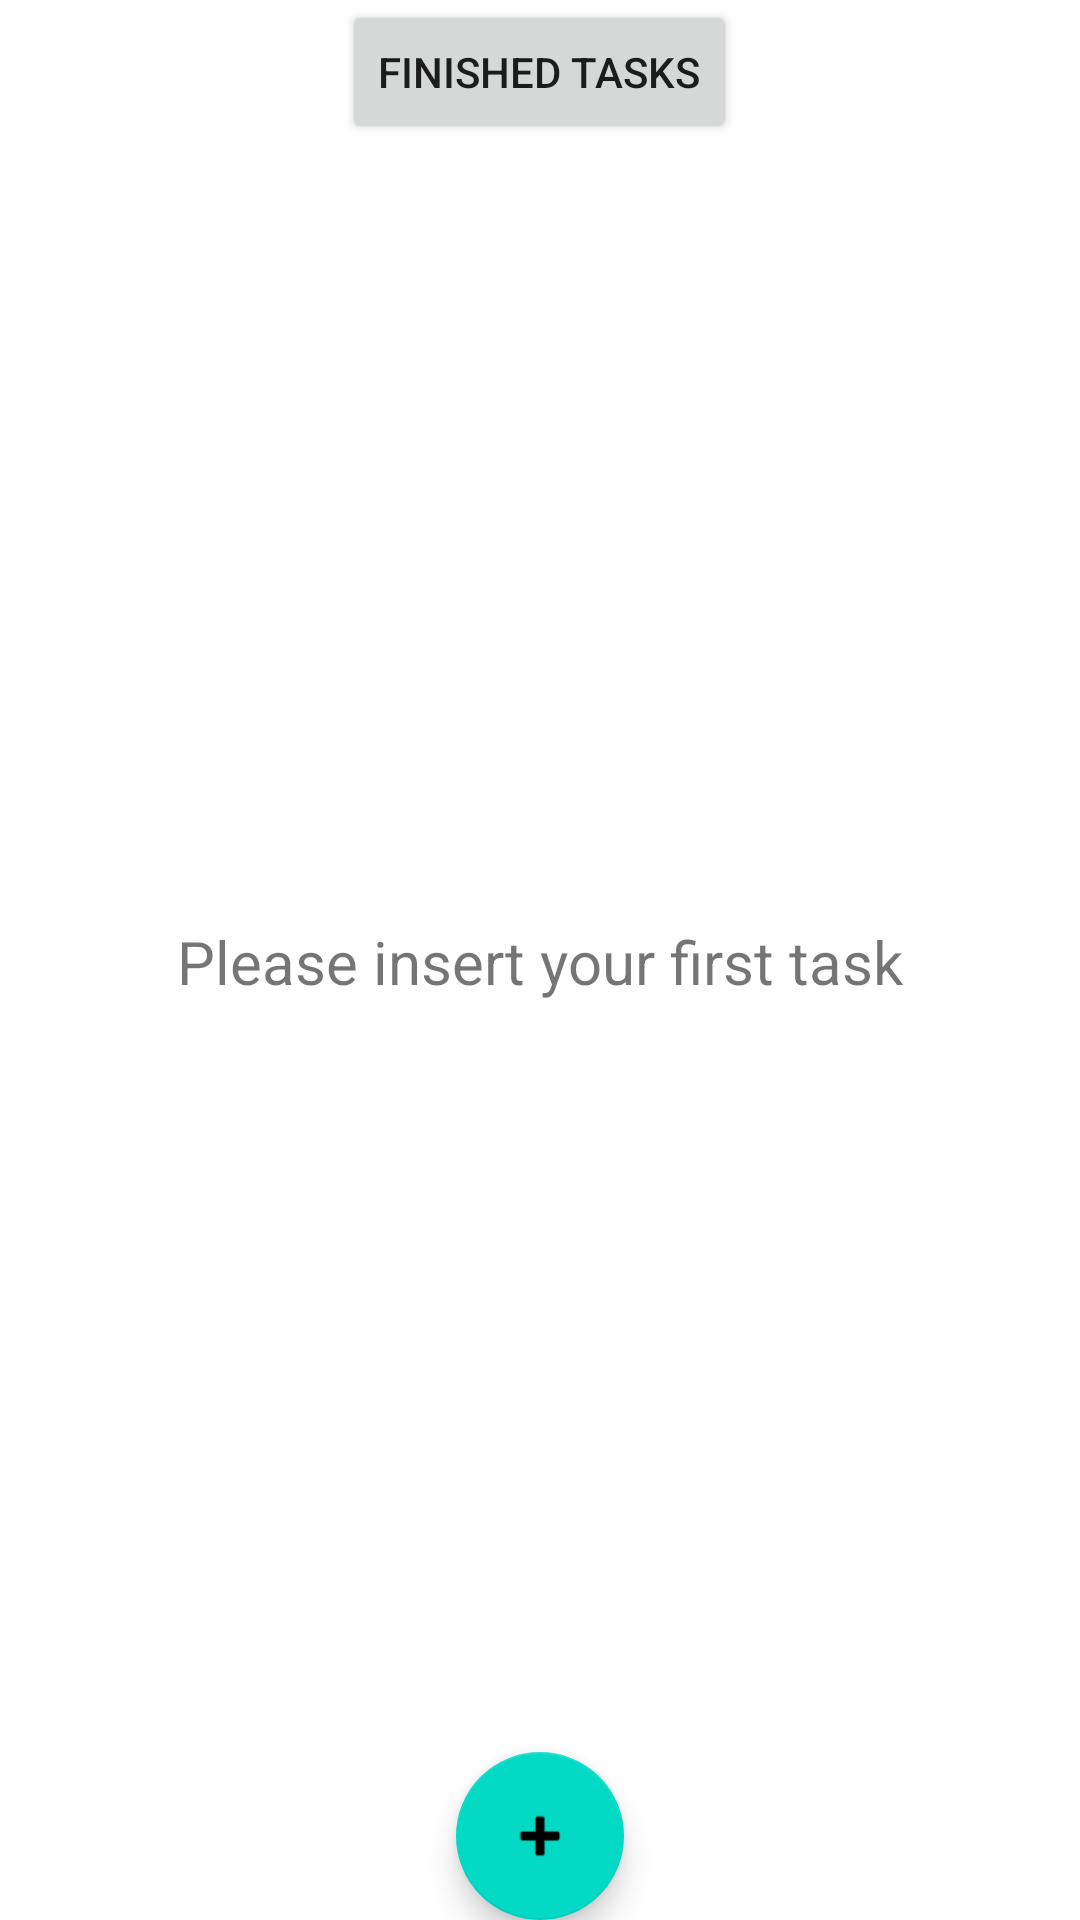

Named icons in this screenshot (1080px x 1920px) and their centers, (x=x, y=y):
add: (x=540, y=1836)
